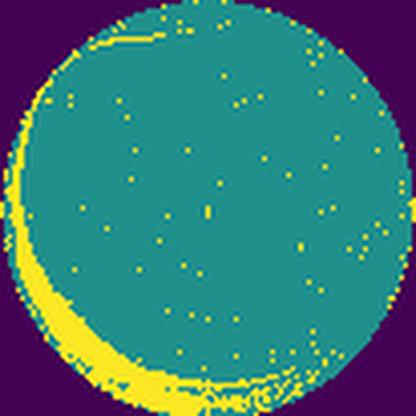Edge-Loc: (0, 46, 304, 414)
